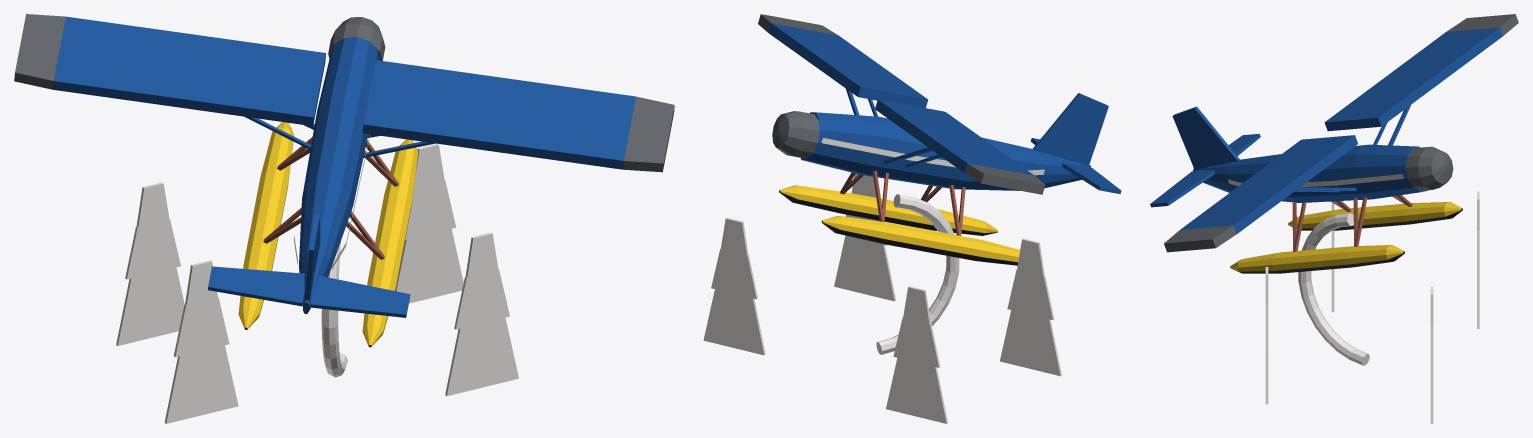
The model's file is cyxd_h14_norseman.gltf.
3 renders of one model, left to right at view 1: azimuth 30°, elevation 25°; view 2: azimuth 150°, elevation 25°; view 3: azimuth 270°, elevation 25°, orthographic. The views are drawn at different scales.
Visible parts, largest first — view 1: cyxd_h14_norseman; view 2: cyxd_h14_norseman; view 3: cyxd_h14_norseman.
Boxes of the visible parts, x1,y1,x2,y2 form: cyxd_h14_norseman: (14,14,674,423); cyxd_h14_norseman: (703,14,1121,423); cyxd_h14_norseman: (1150,14,1518,423).
Size of the model in its own units: 13.83 by 8.93 by 11.17.
